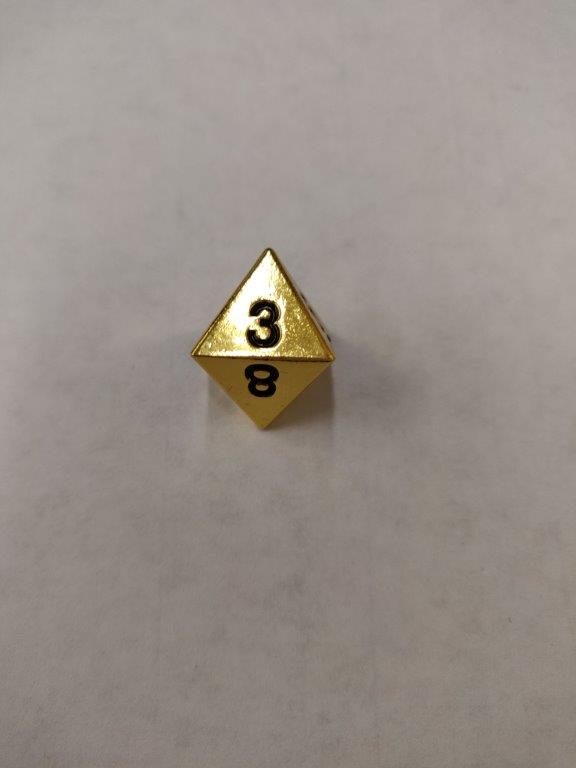d8-3: (188, 248, 336, 432)
